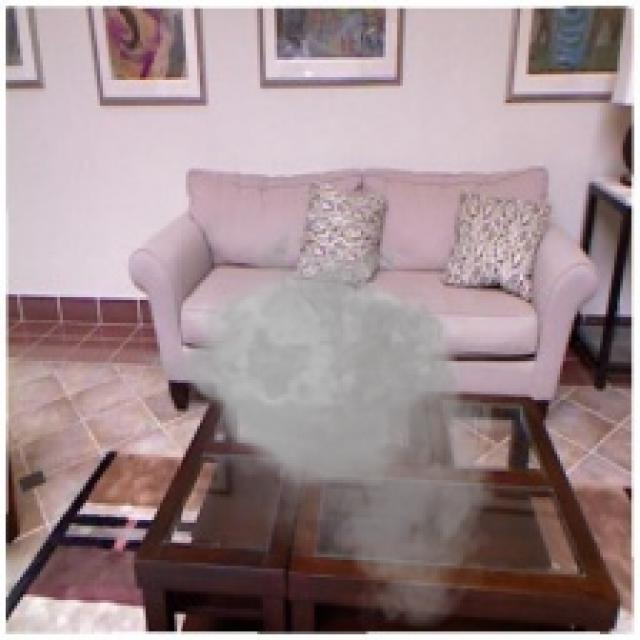smoke: (131, 217, 506, 634)
